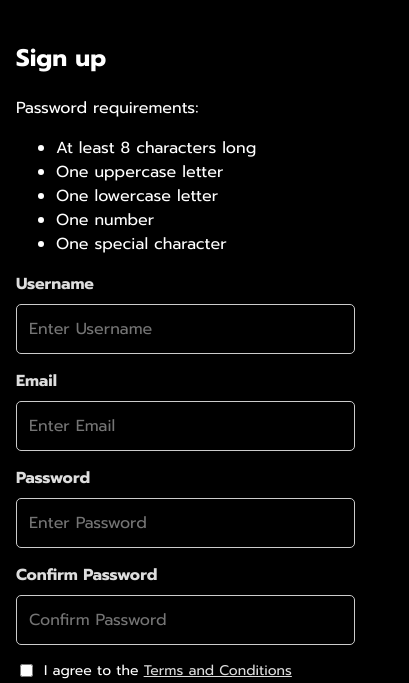
Scenario: Signup Component › should enable submit button if terms and conditions are checked
Click the checkbox labelled "I agree to the Terms and Conditions" at (26, 670), box [20,664,33,677]
(page scrolled)
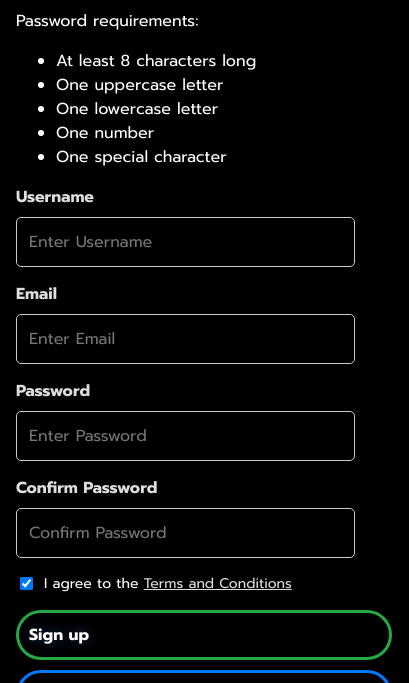
Expected: the button "Sign up" is enabled, [16,610,392,660]
